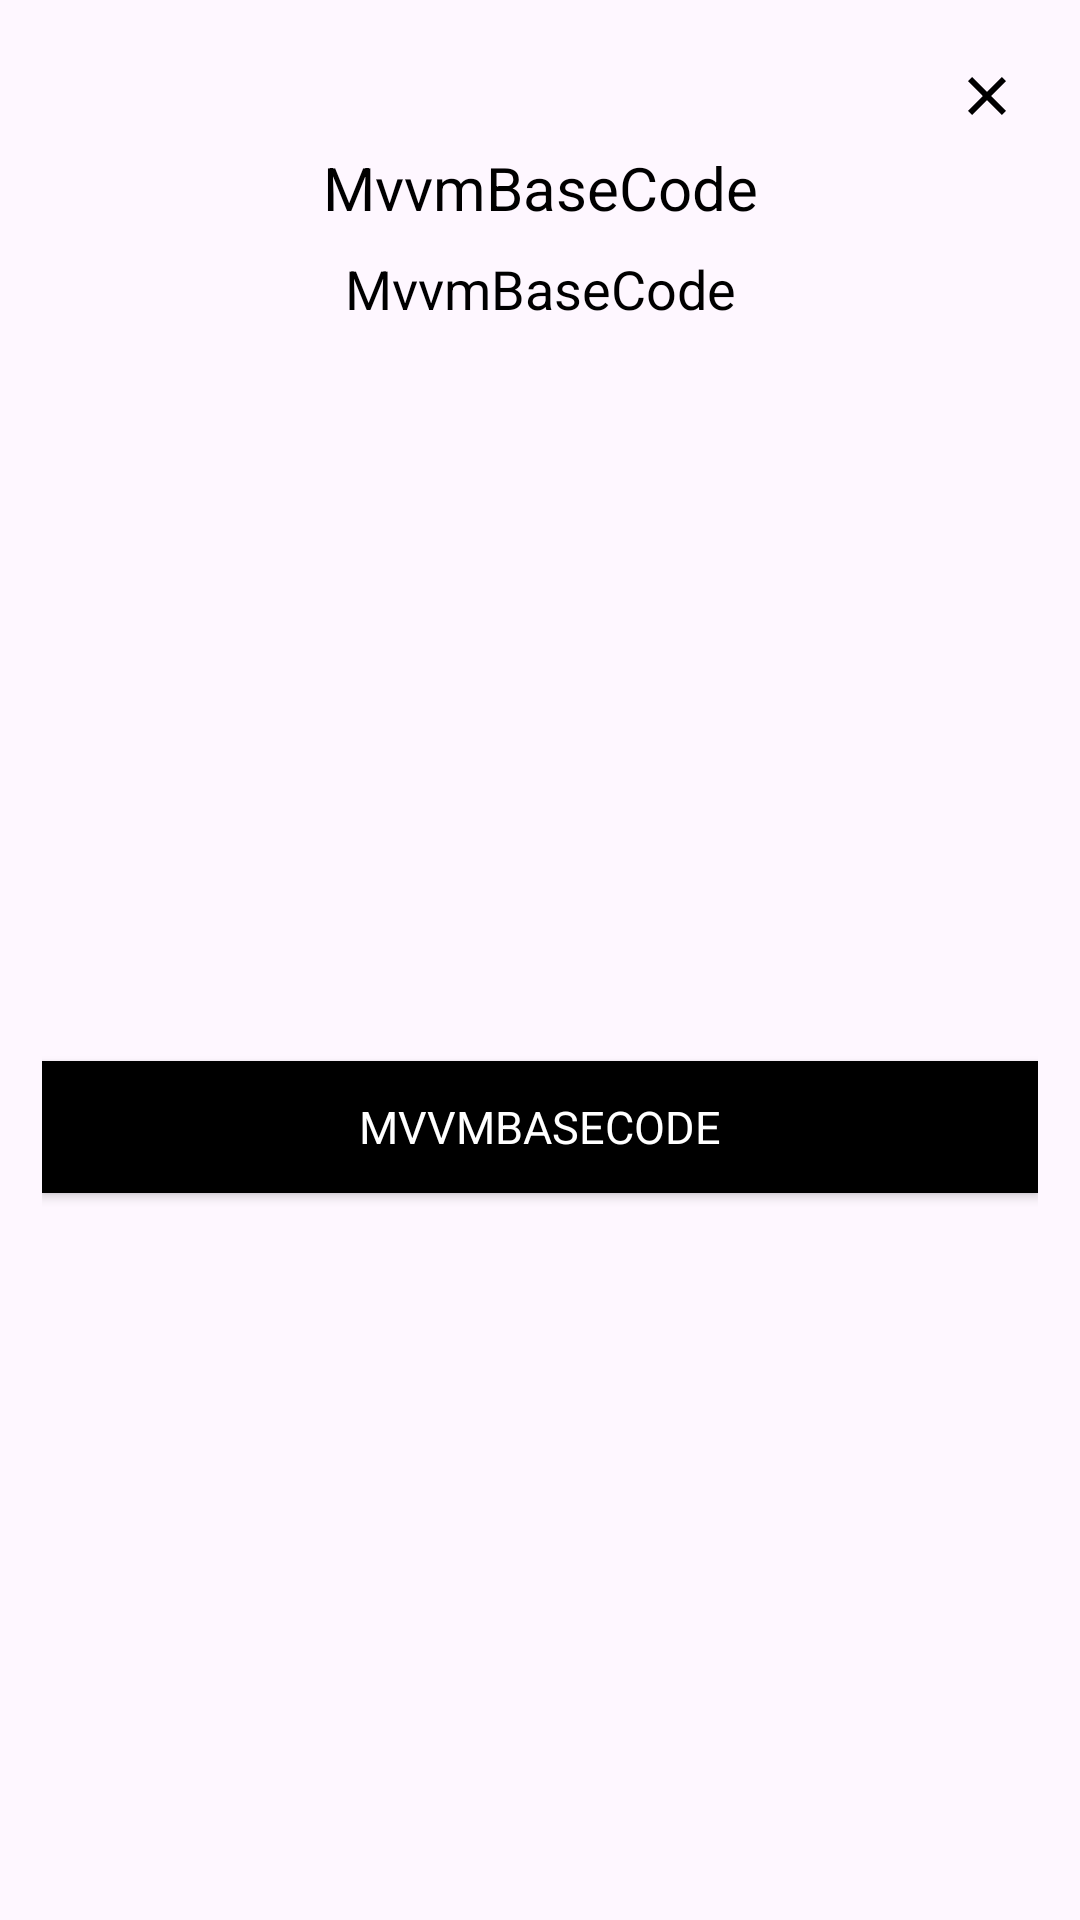

Icon click points for this 1080×1920 phone screenshot, format (x,y):
close: (987,96)
